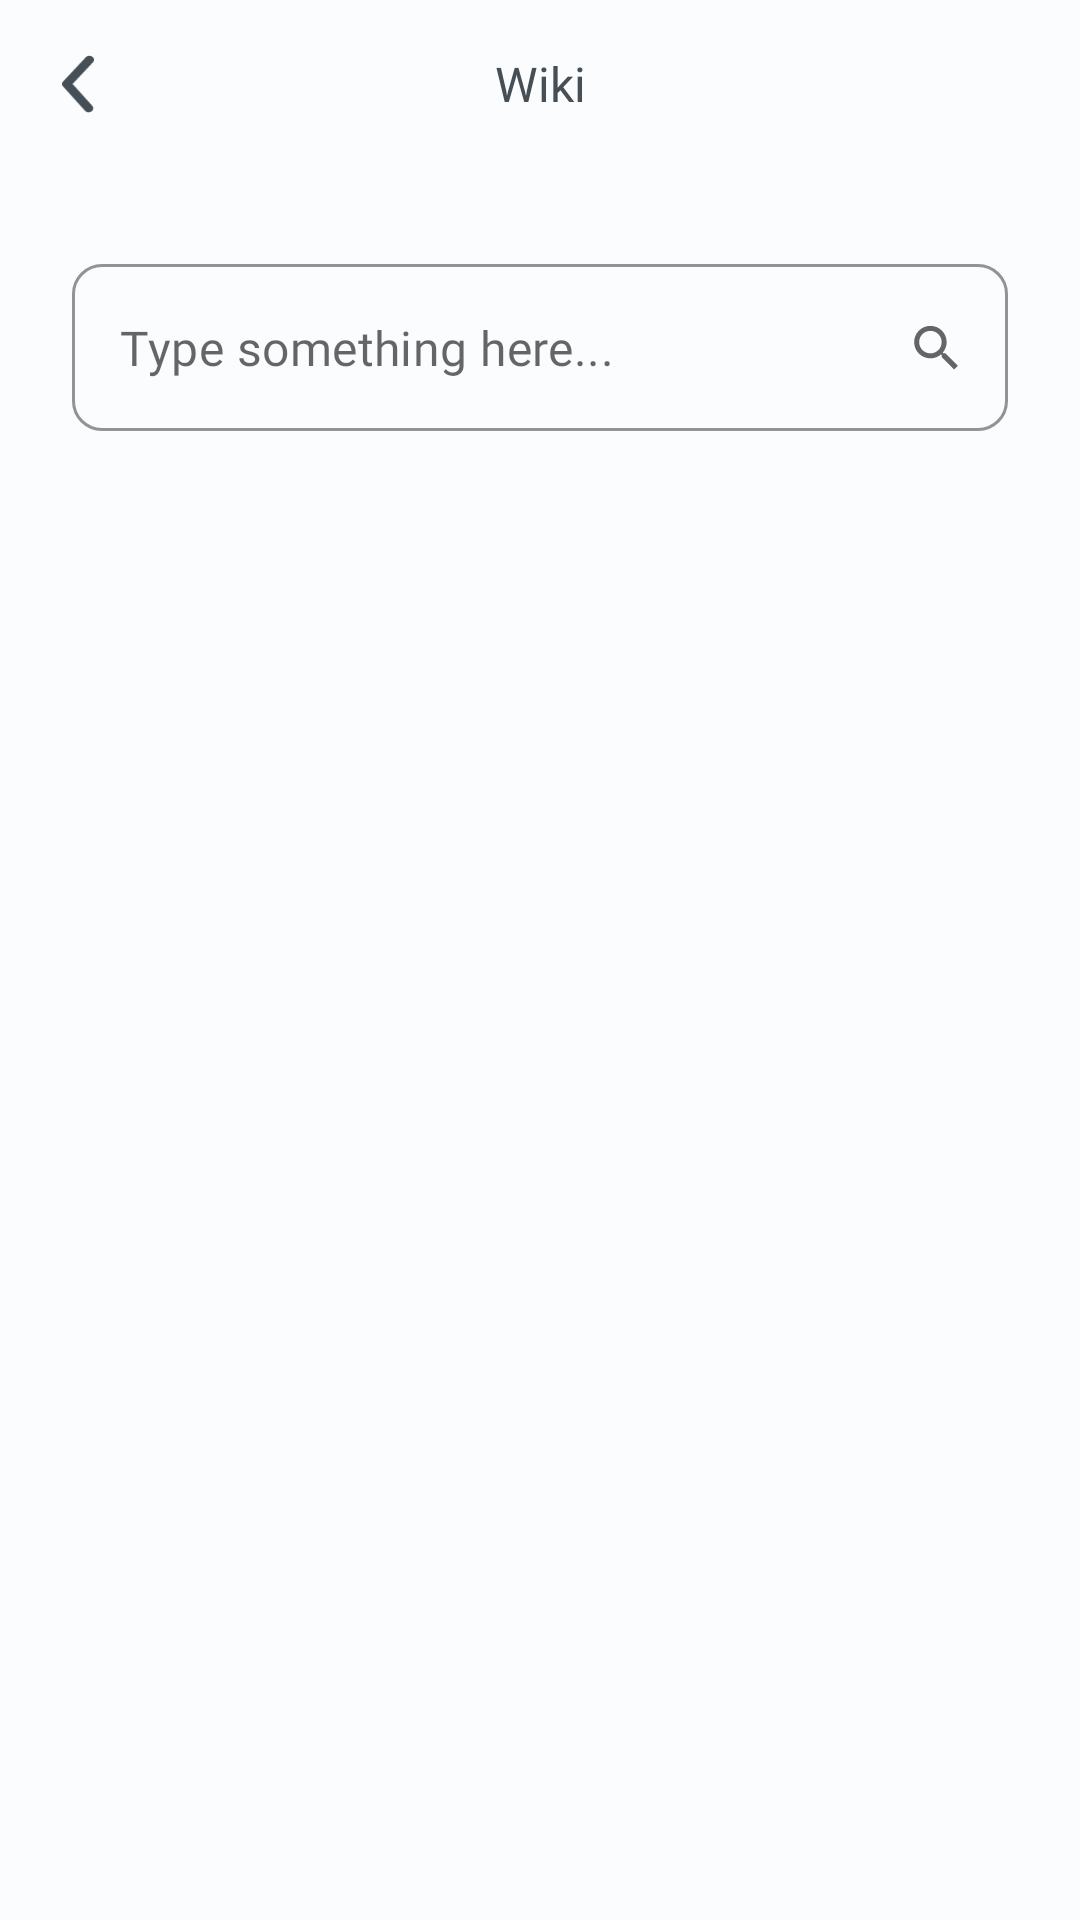

Icons on this 1080 x 1920 Android screen, each with the point to tap as point (x, y):
back: point (78, 84)
